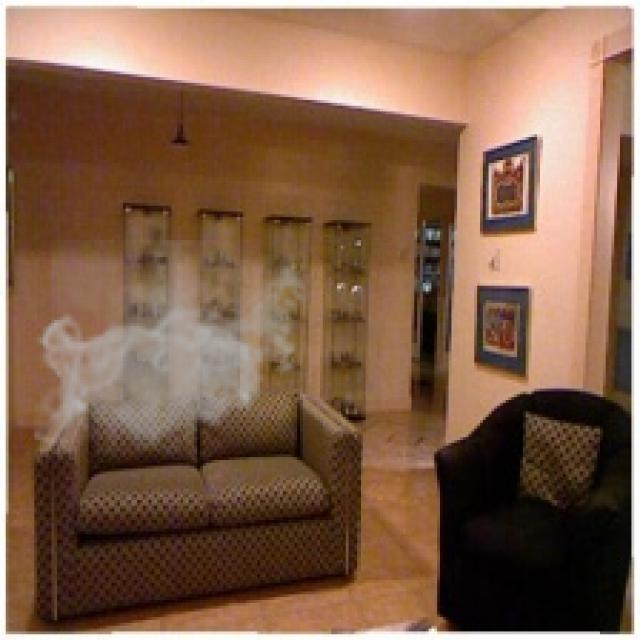Smoke: (34, 240, 314, 457)
